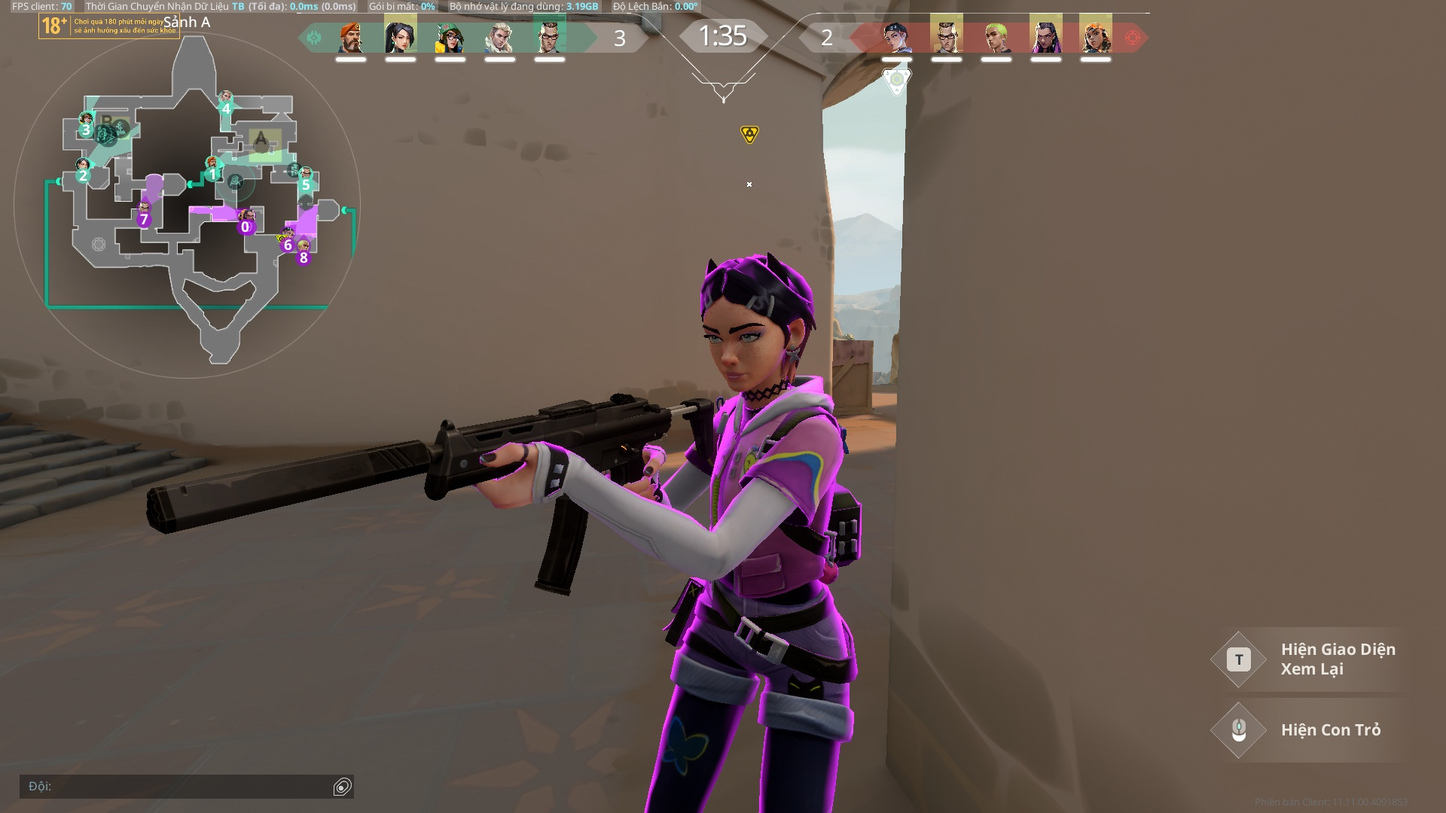body: (702, 385, 841, 595)
head: (692, 256, 814, 388)
